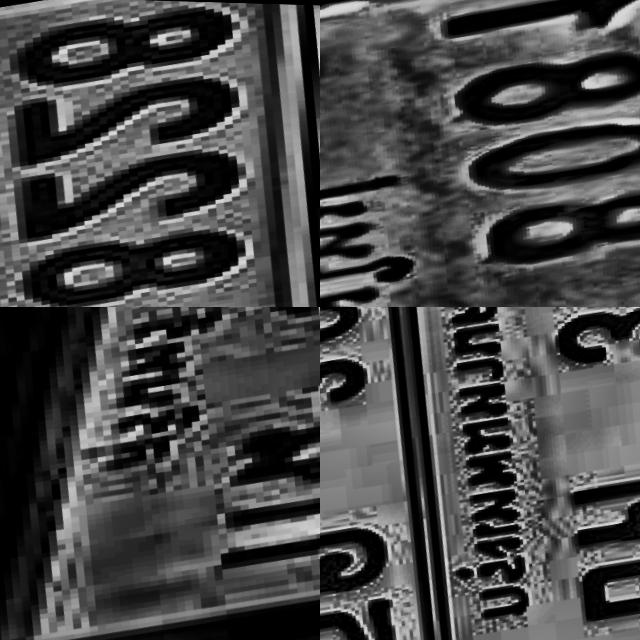license-plate: (0, 307, 320, 640), (0, 0, 320, 307), (320, 0, 640, 307), (353, 307, 640, 640), (320, 307, 502, 640)
